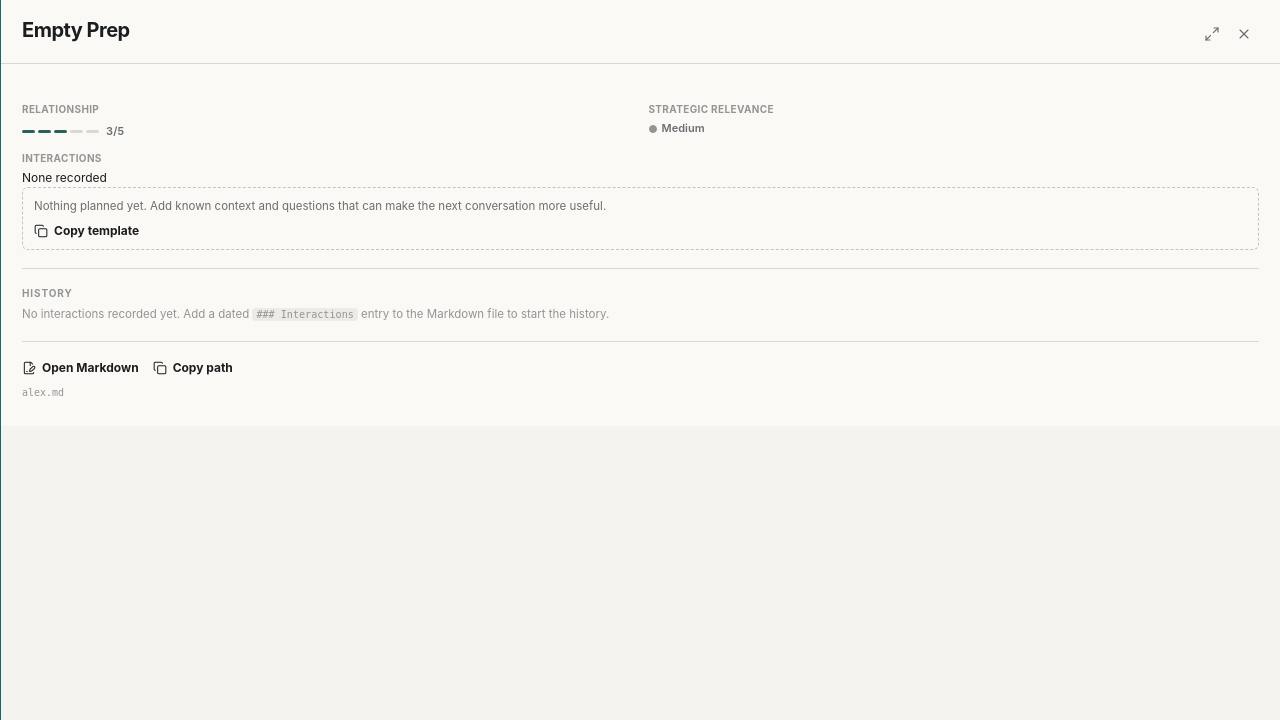
PersonDetail › omits empty prep blocks and copies the template when all prep is empty
Click the button with aria-label "Copy Conversation Prep template". click: point(87, 231)
box: [34, 223, 139, 239]
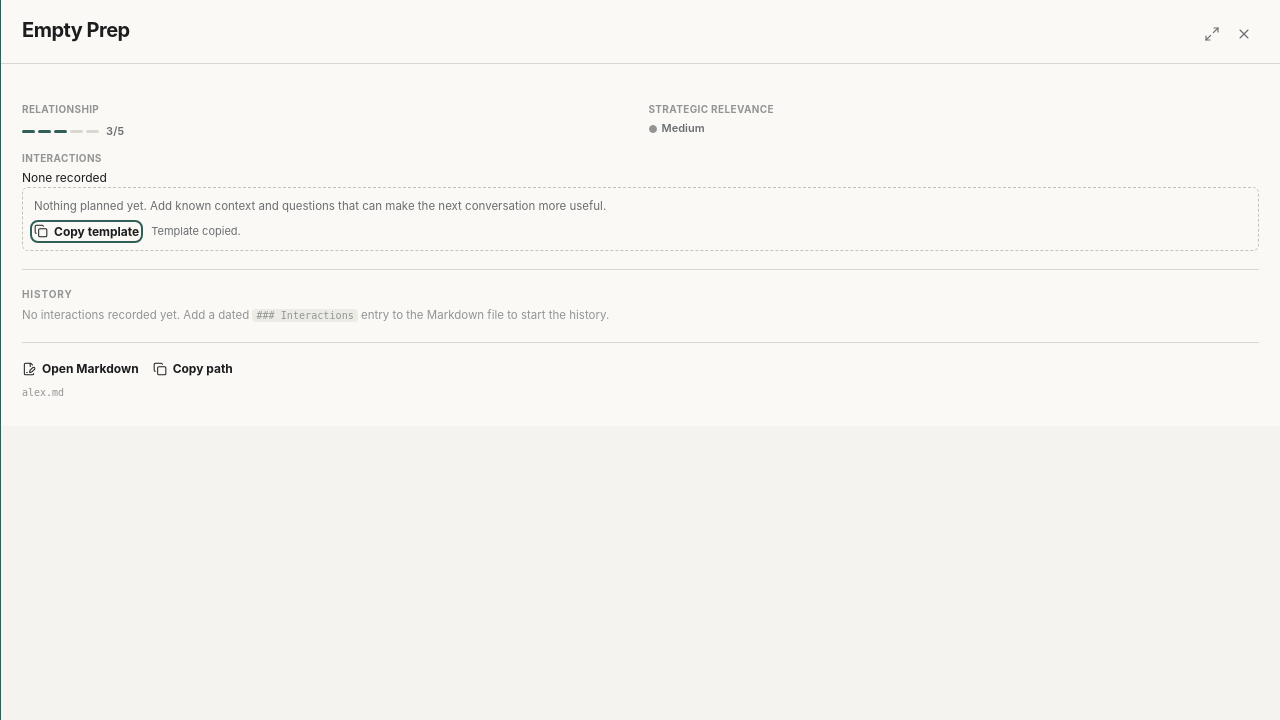
Now the text "Template copied." is shown, box [151, 223, 241, 240]
